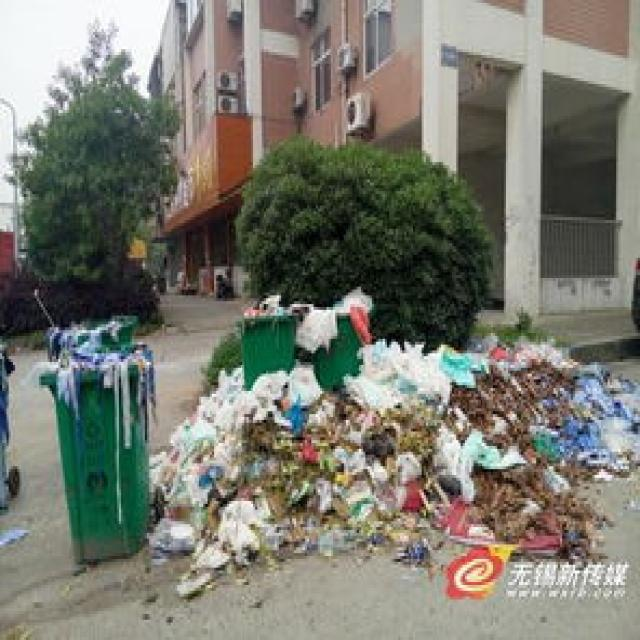garbage: (147, 330, 638, 597)
overflow: (35, 310, 152, 562), (313, 284, 372, 385), (234, 290, 296, 382)
